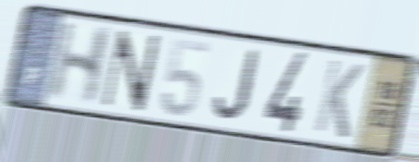4: (262, 50, 308, 136)
5: (159, 35, 213, 119)
H: (43, 19, 117, 108)
J: (211, 48, 262, 124)
K: (311, 55, 368, 142)
N: (98, 27, 165, 114)
